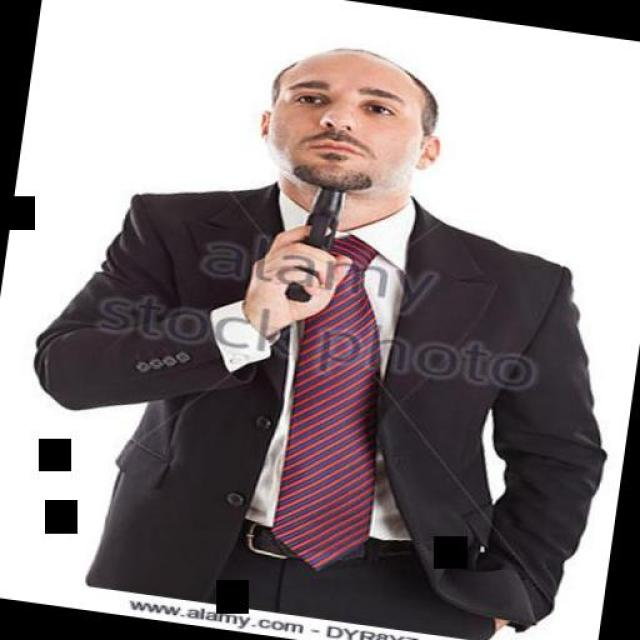gun: (280, 181, 358, 310)
